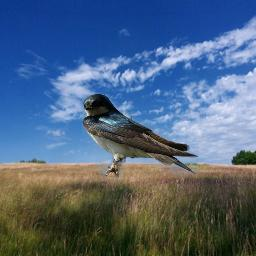Swallow: (82, 94, 199, 179)
